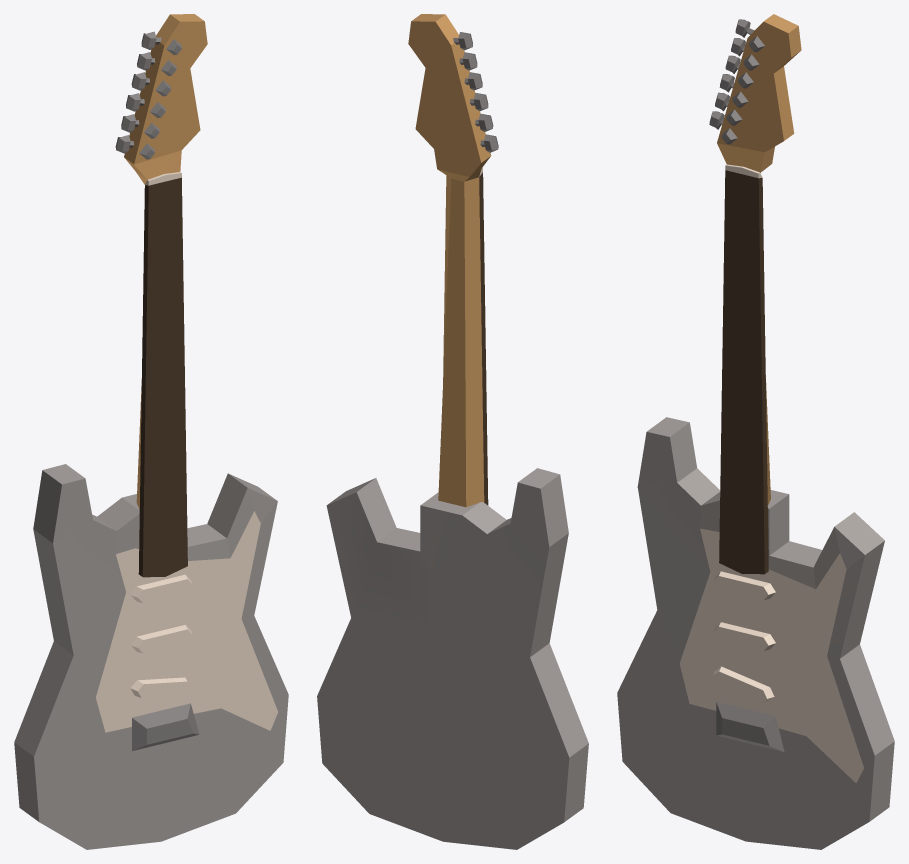
File: music_guitar-electric-country.fbx
The picture shows the model from 3 angles, left to right: view 1: azimuth 30°, elevation 25°; view 2: azimuth 150°, elevation 25°; view 3: azimuth 330°, elevation 25°; orthographic projection. The views are drawn at different scales.
Visible parts, largest first — view 1: music_guitar_electric_country; view 2: music_guitar_electric_country; view 3: music_guitar_electric_country.
Part boxes in pixels (bbox=[...]): music_guitar_electric_country: bbox=[14, 14, 288, 849]; music_guitar_electric_country: bbox=[317, 14, 588, 849]; music_guitar_electric_country: bbox=[617, 14, 894, 849].
Size of the model in its own units: 65.35 by 200 by 11.05.
